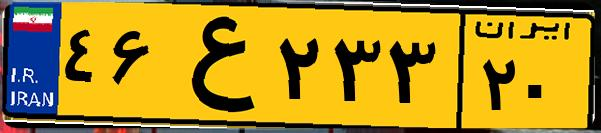0: (525, 38, 570, 115)
2: (270, 28, 330, 110), (475, 38, 525, 113)
3: (385, 28, 445, 110), (330, 28, 385, 110)
4: (57, 26, 110, 100)
6: (110, 28, 158, 98)
ع: (158, 12, 270, 120)
